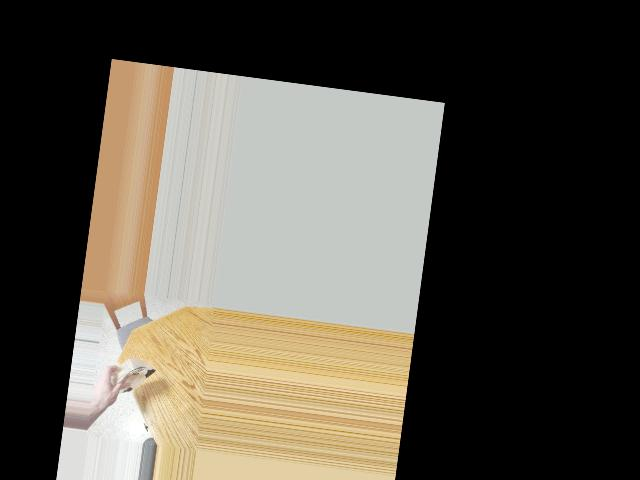cheese: (105, 346, 155, 410)
